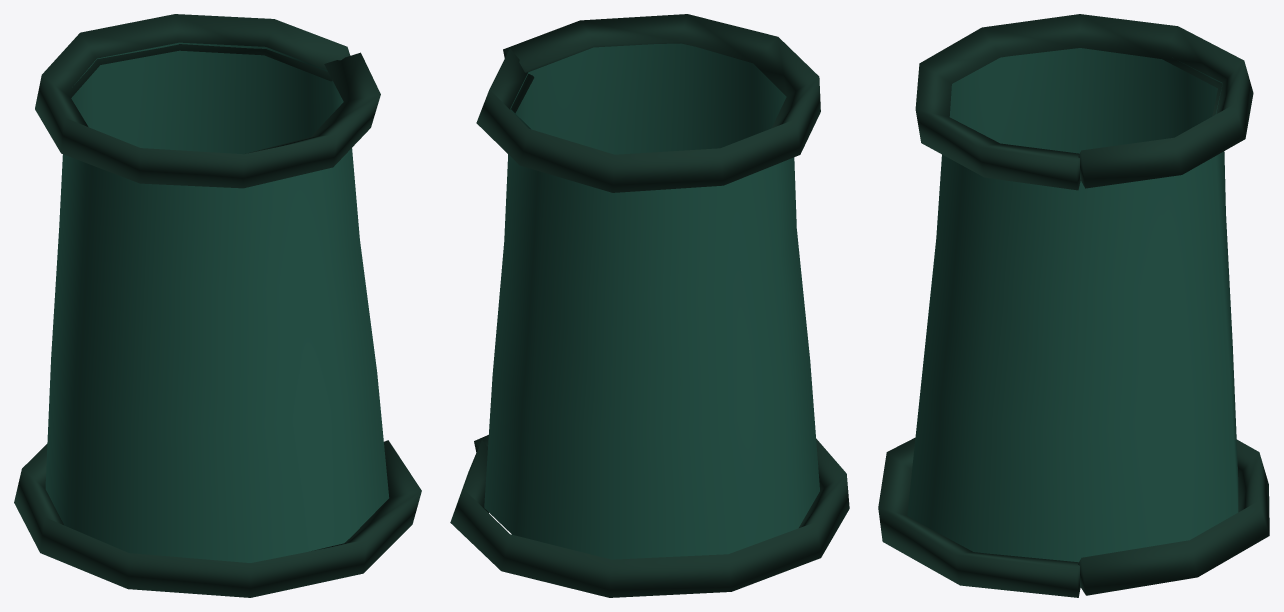
Rendered from vortex_armor_bracer.R.glb.
The picture shows the model from 3 angles, left to right: view 1: azimuth 30°, elevation 25°; view 2: azimuth 150°, elevation 25°; view 3: azimuth 270°, elevation 25°; orthographic projection.
Parts seen in each view (by area): view 1: vortex_armor_bracer.R; view 2: vortex_armor_bracer.R; view 3: vortex_armor_bracer.R.
Part boxes in pixels (x1,y1,x2,y2): vortex_armor_bracer.R: [14, 14, 421, 597]; vortex_armor_bracer.R: [450, 14, 849, 597]; vortex_armor_bracer.R: [878, 14, 1269, 597].
Size of the model in its own units: 0.1435 by 0.1719 by 0.1408.
